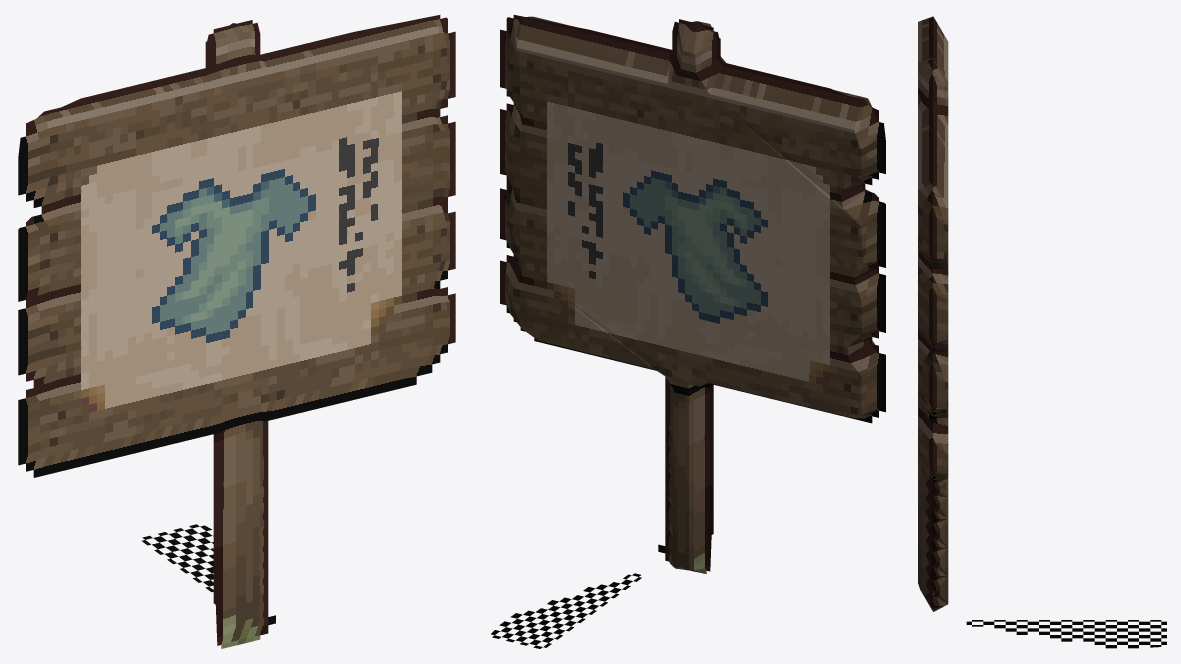
File: shop_sign_cut_high.glb
3 views of the same model, side by side, from view 1: azimuth 30°, elevation 25°; view 2: azimuth 150°, elevation 25°; view 3: azimuth 270°, elevation 25° (orthographic). The views are drawn at different scales.
Parts seen in each view (by area): view 1: shop_sign_cut_lod0; view 2: shop_sign_cut_lod0; view 3: shop_sign_cut_lod0.
Boxes of the visible parts, x1,y1,x2,y2 form: shop_sign_cut_lod0: [18, 15, 455, 648]; shop_sign_cut_lod0: [491, 15, 885, 648]; shop_sign_cut_lod0: [918, 16, 1166, 648].
Bounding box in the file's own units: 1.19 × 1.59 × 0.6588.
1 material, 1 textured.
